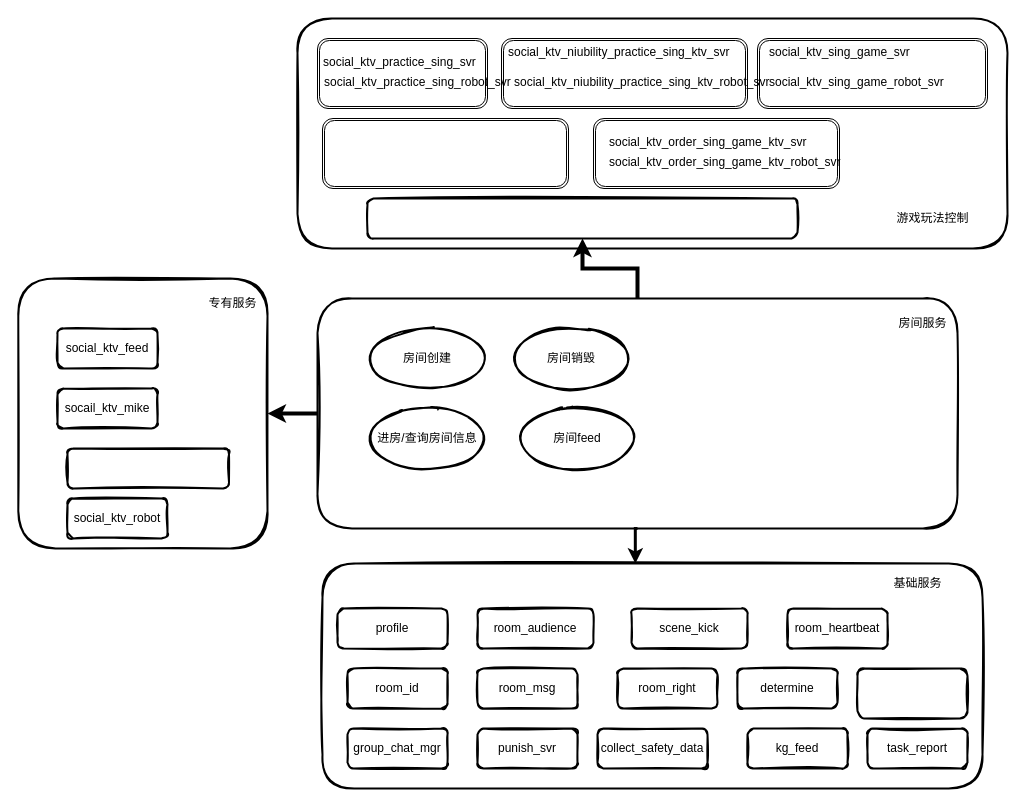
The diagram is 1026 pixels wide and 806 high, and some of its shapes have lost their labels. Each missing label, with the centre of its shape:
"social_ktv_game_control" goes at (582,218).
"social_ktv_web_common_game_svr" goes at (445,153).
"timer_task" goes at (912,693).
"unified_ktv_invite_code_svr" goes at (148,468).
